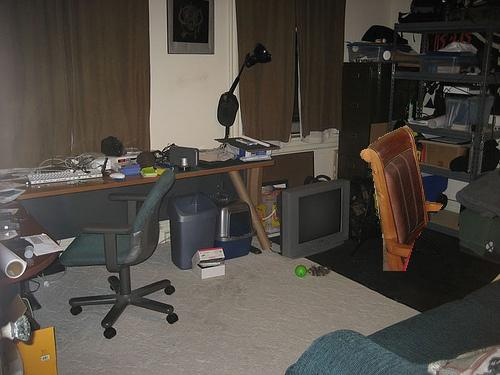tampered: (361, 126, 443, 271)
